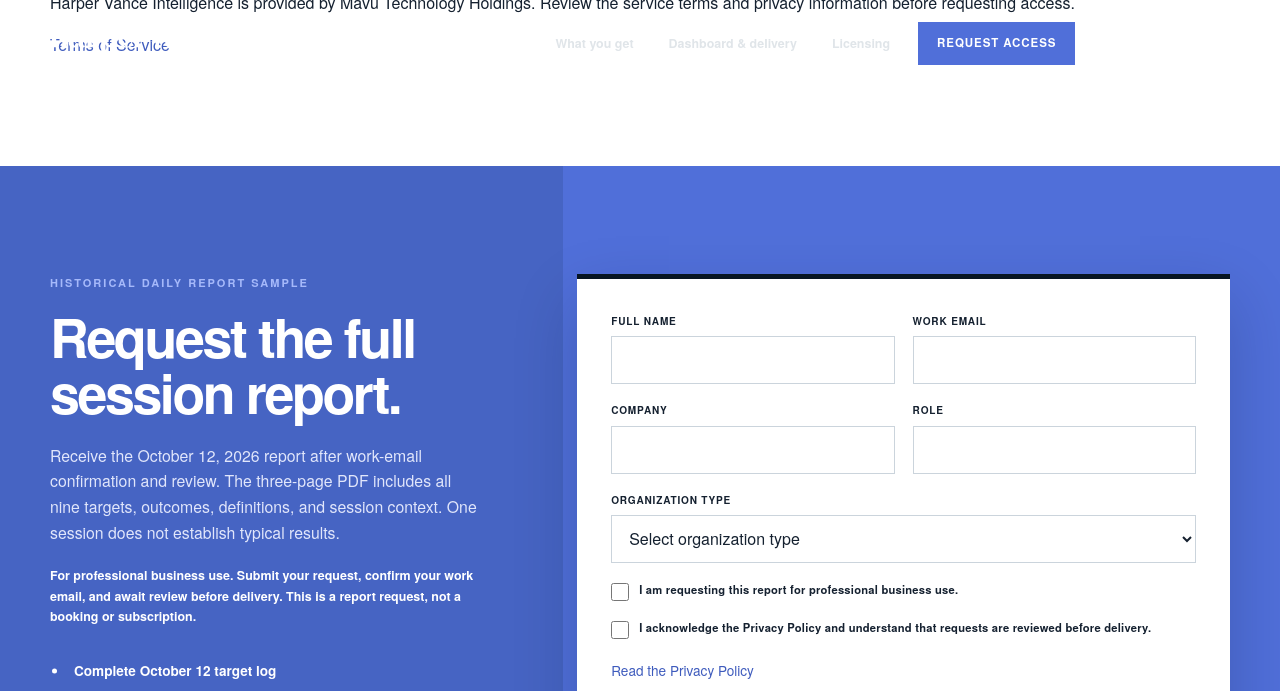
public evaluation journey › handles accepted requests without claiming email delivery: {"verificationDelivery":"manual_follow_up_required"}
The width and height of the screenshot is (1280, 691).
(page scrolled)
Type "Test Analyst" into the field labelled "Full name". click: (753, 360)
box: [611,336,895,384]
Type "analyst@example.com" into the field labelled "Work email". click: (1054, 360)
box: [913,336,1196,384]
Type "Example Desk" into the field labelled "Company". click: (753, 450)
box: [611,426,895,474]
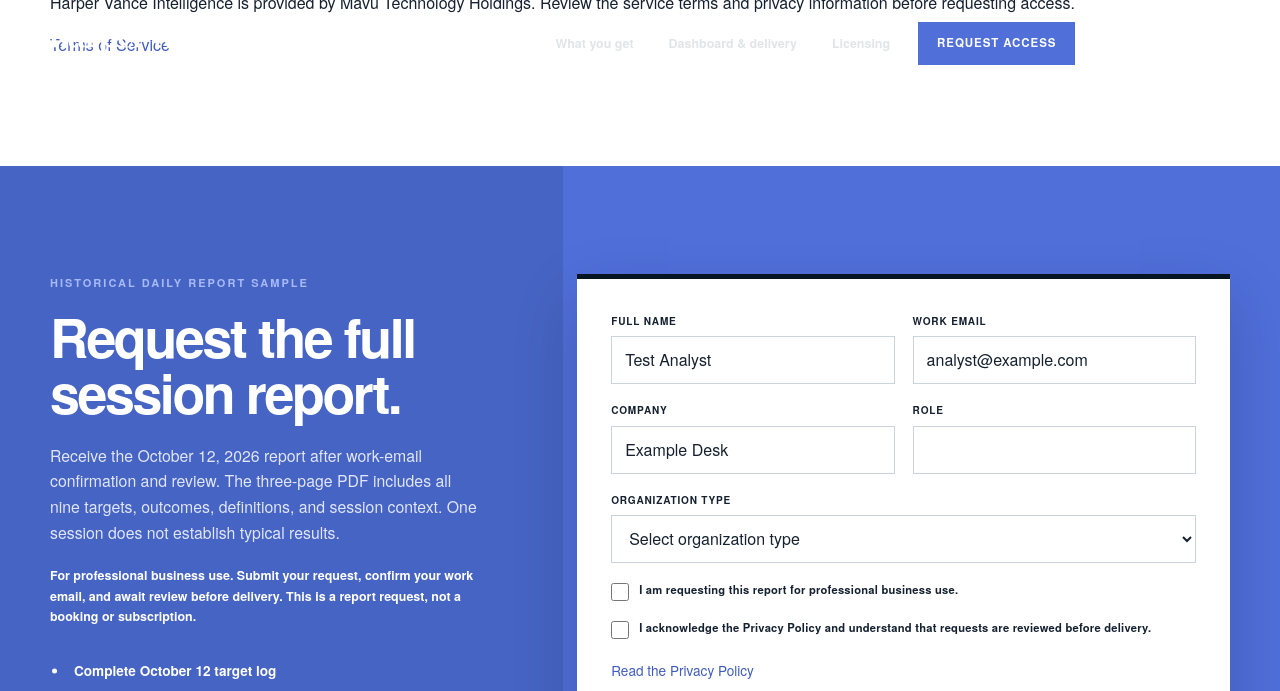
Type "Research Lead" into the field labelled "Role". click: (1054, 450)
box: [913,426,1196,474]
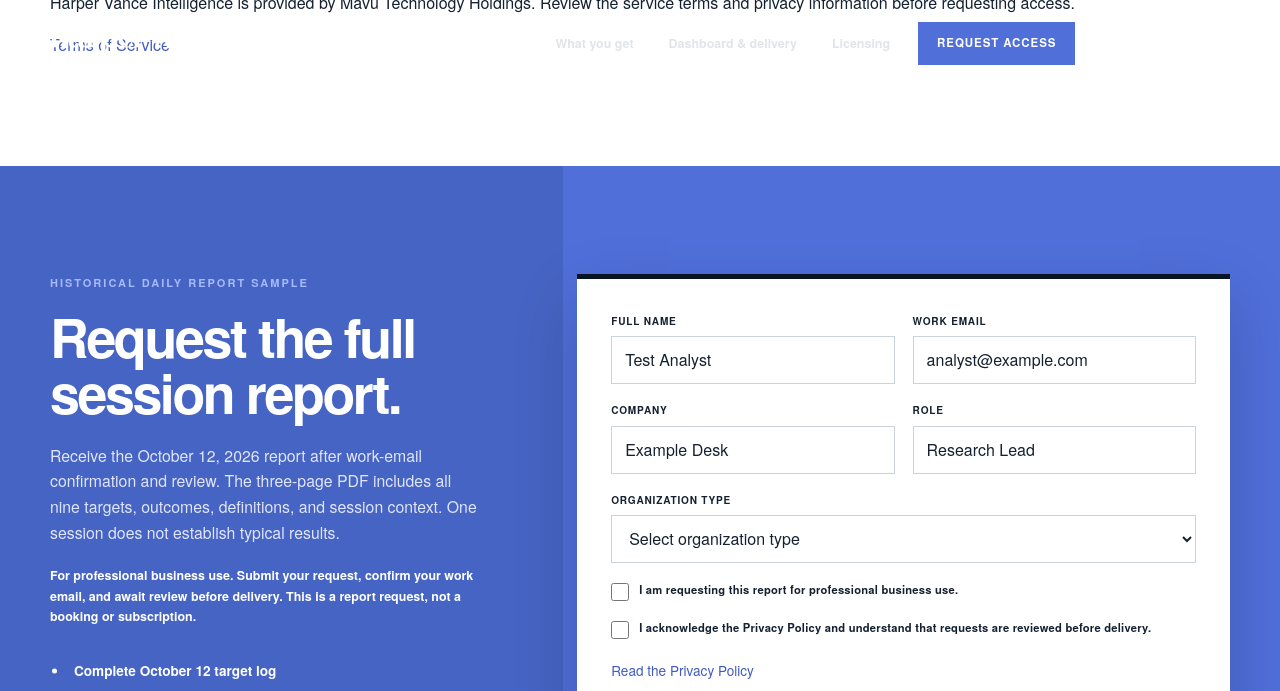
Select "Proprietary trading firm" in the dropdown labelled "Organization type". click: (904, 539)
box: [611,515,1196,563]
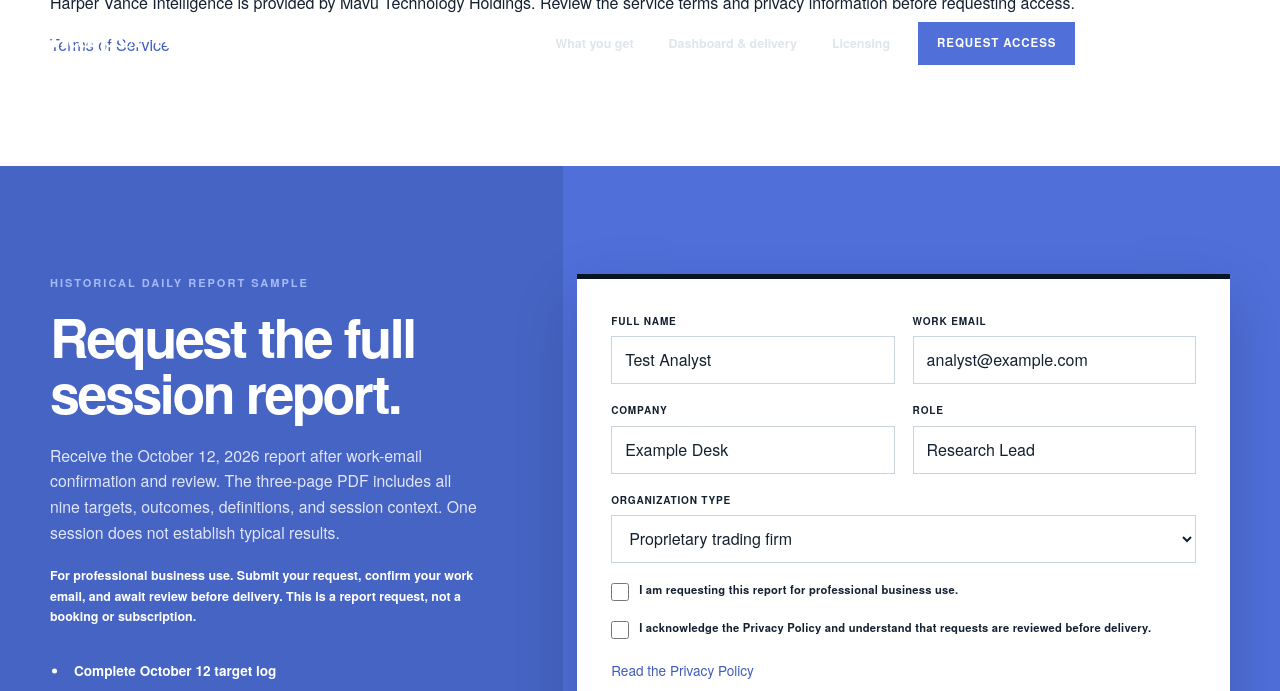
Click the checkbox labelled "I am requesting this report for professional business use.". click: (620, 592)
box: [611,583,629,601]
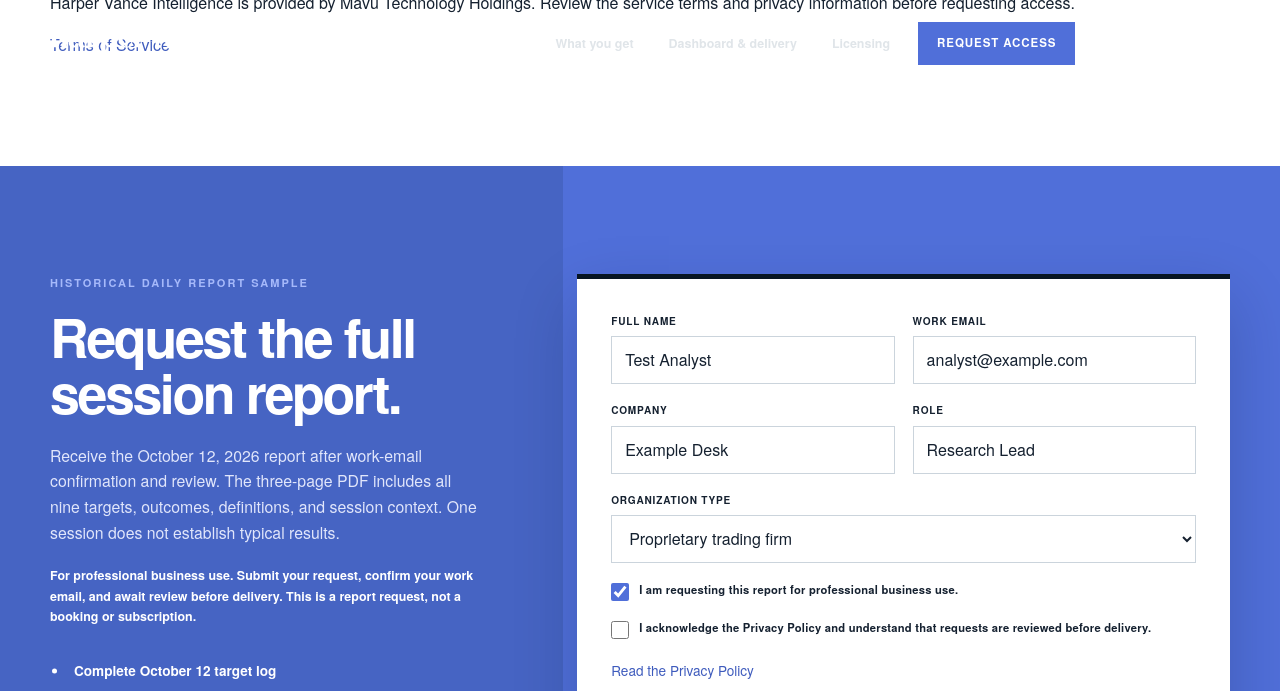
Click the checkbox labelled "I acknowledge the Privacy Policy". click: (620, 630)
box: [611,621,629,639]
(page scrolled)
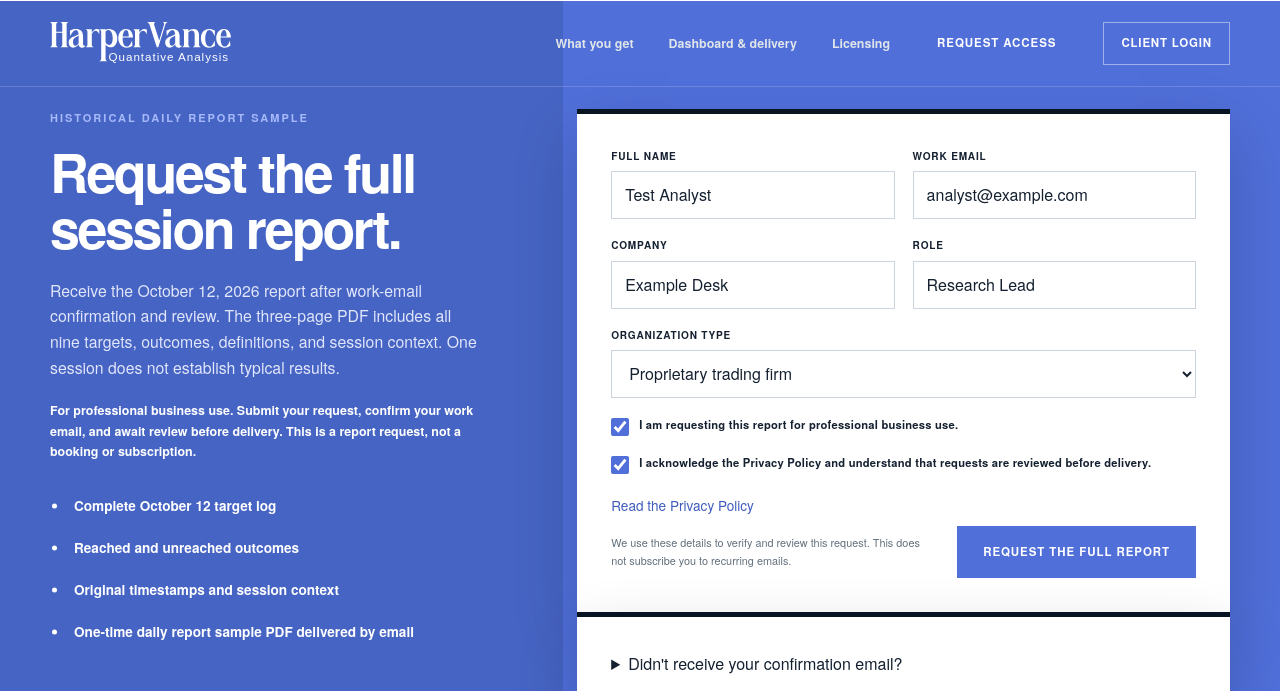
Submit the form, box [577,109,1230,612]
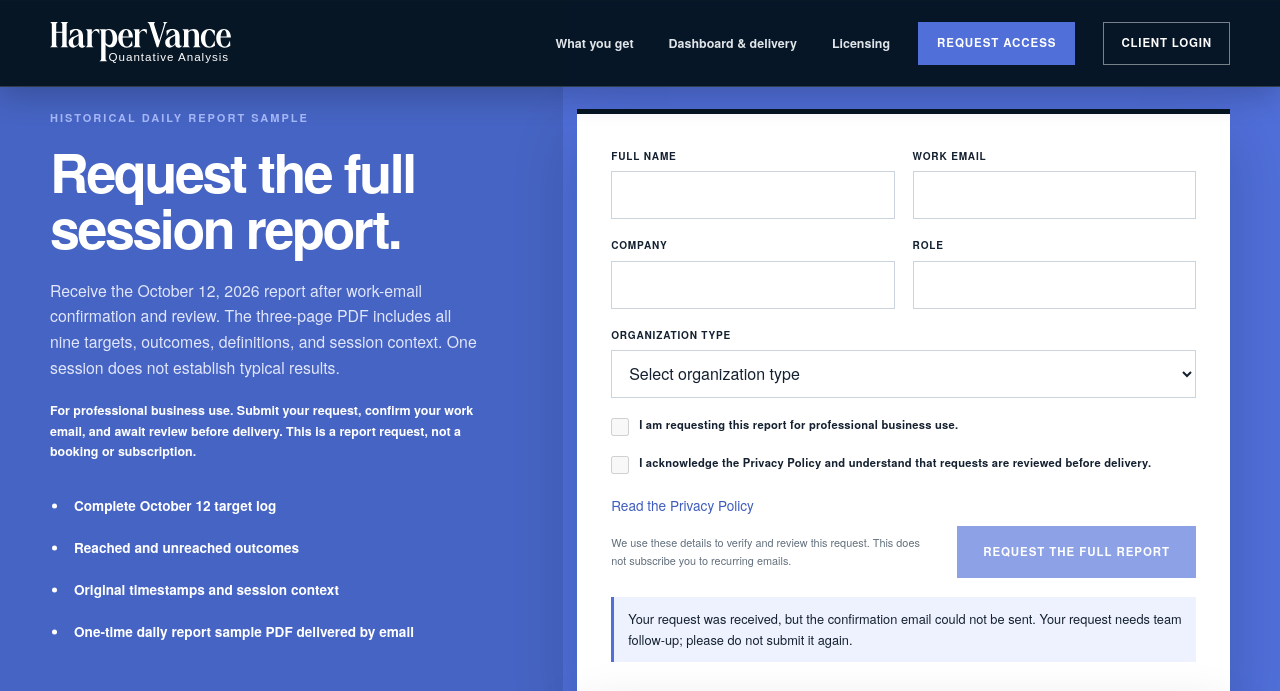
Expected: the button "Request the Full Report" is disabled, [957,526,1196,578]
Expected: the message shows "confirmation email could not be sent", [628,609,1182,648]
